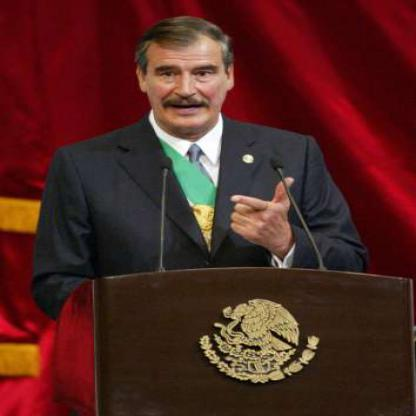face: (145, 21, 232, 131)
